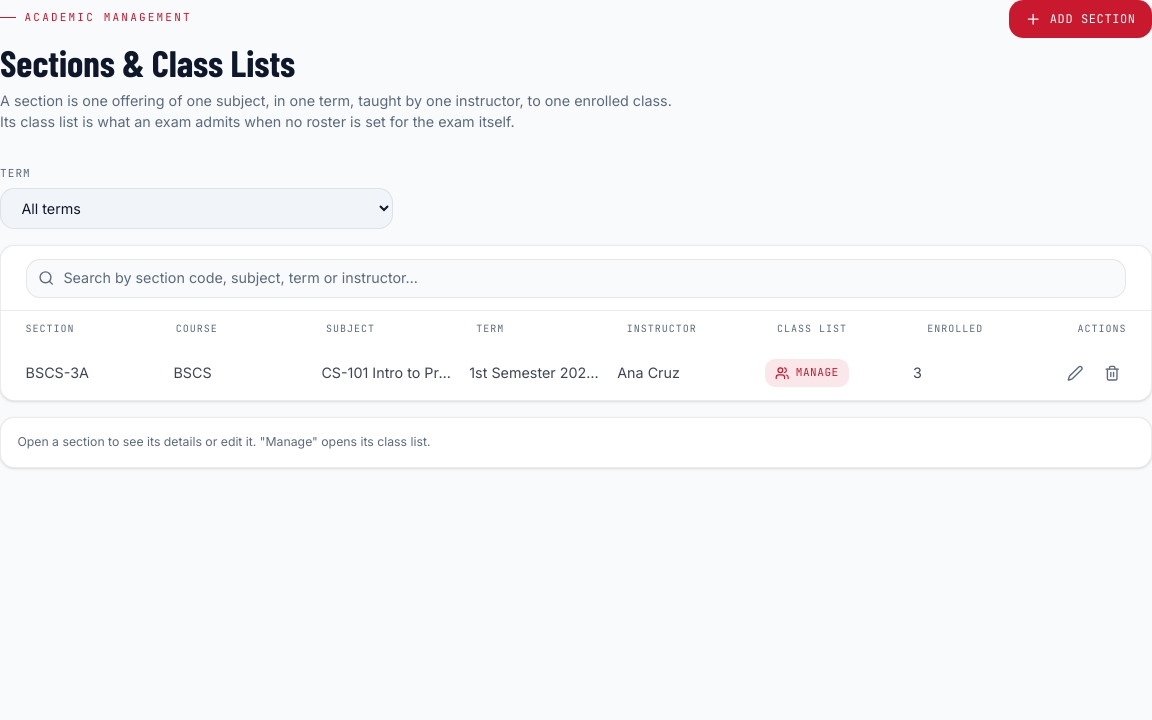
Test case: Sections — correcting and removing › warns that reassigning the class hands over its exams too
Click the button named "Edit": x=1075, y=373 [1061,359,1090,387]
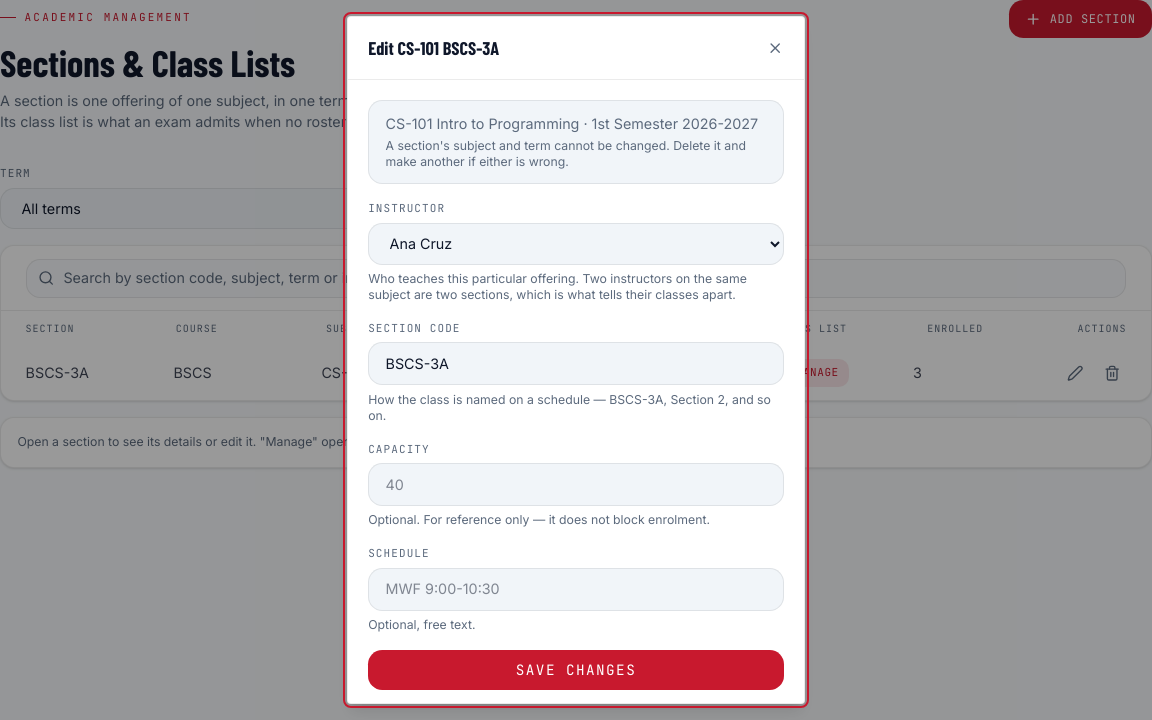
Select "Ben Santos" in the dropdown labelled "Instructor": x=576, y=244 [368,223,784,265]
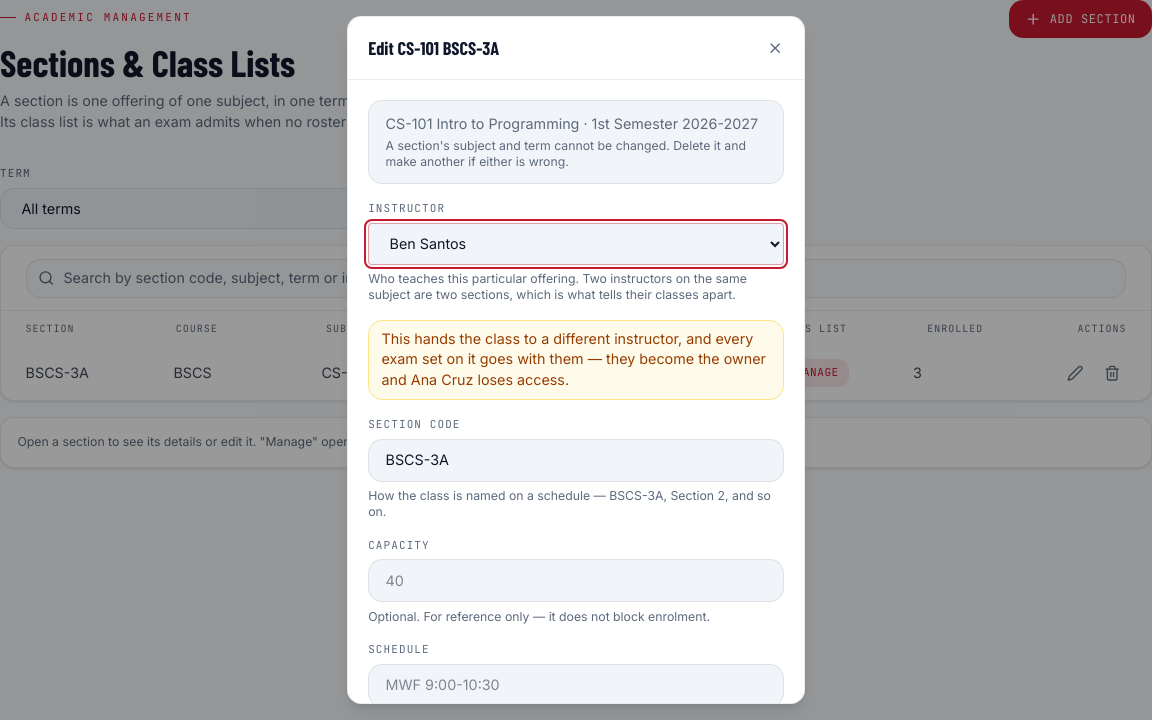
Expected: the text "every exam set on it goes with them" is shown, [381,330,766,388]
